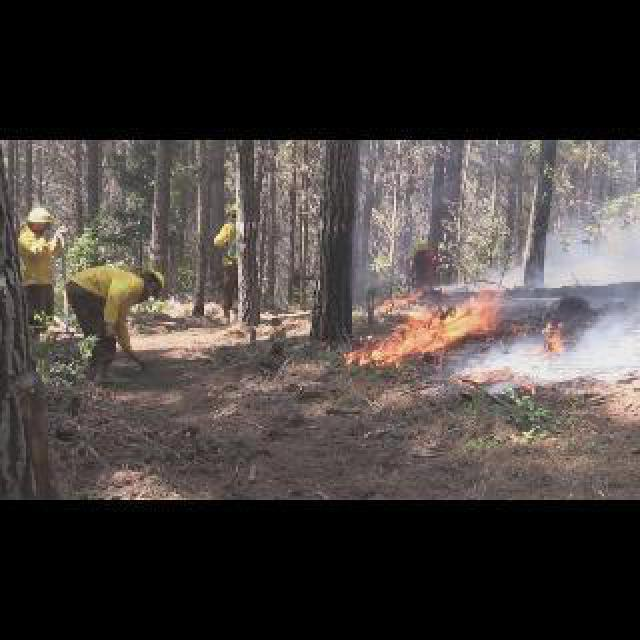Fire: (340, 288, 504, 366), (380, 288, 426, 312)
